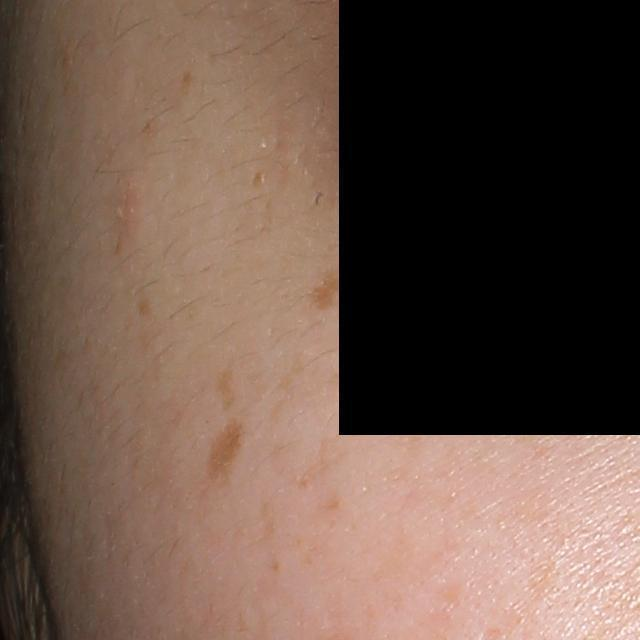melasma: (204, 414, 247, 487), (382, 399, 426, 465), (303, 270, 352, 315), (214, 361, 236, 412), (177, 72, 196, 102), (245, 168, 268, 189)
